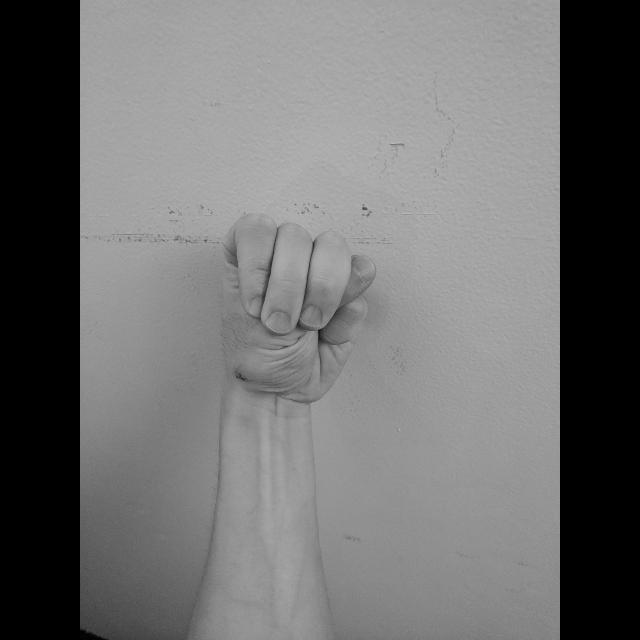M: (210, 206, 380, 408)
